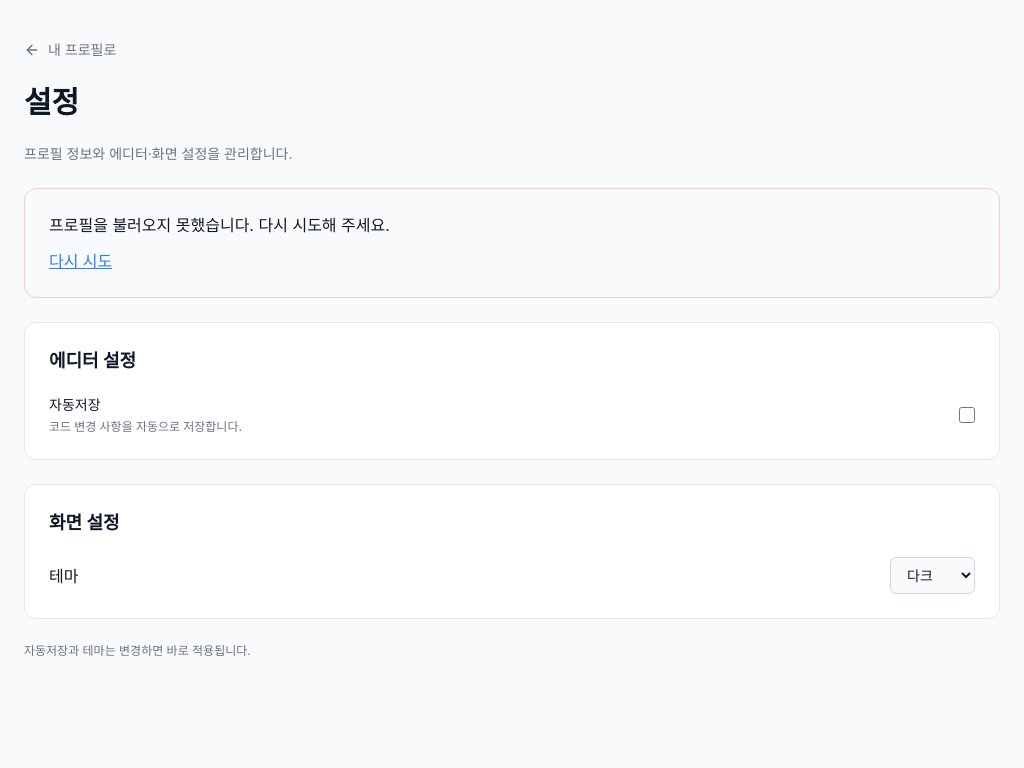
Test case: settings profile editor › offers retry on transient read failure without removing the token
Expected: the message "프로필을 불러오지 못했습니다. 다시 시도해 주세요. 다시 시도" is shown, x1=24 y1=188 x2=1000 y2=298
Click the button "다시 시도" at (81, 261), box x1=49 y1=249 x2=112 y2=273
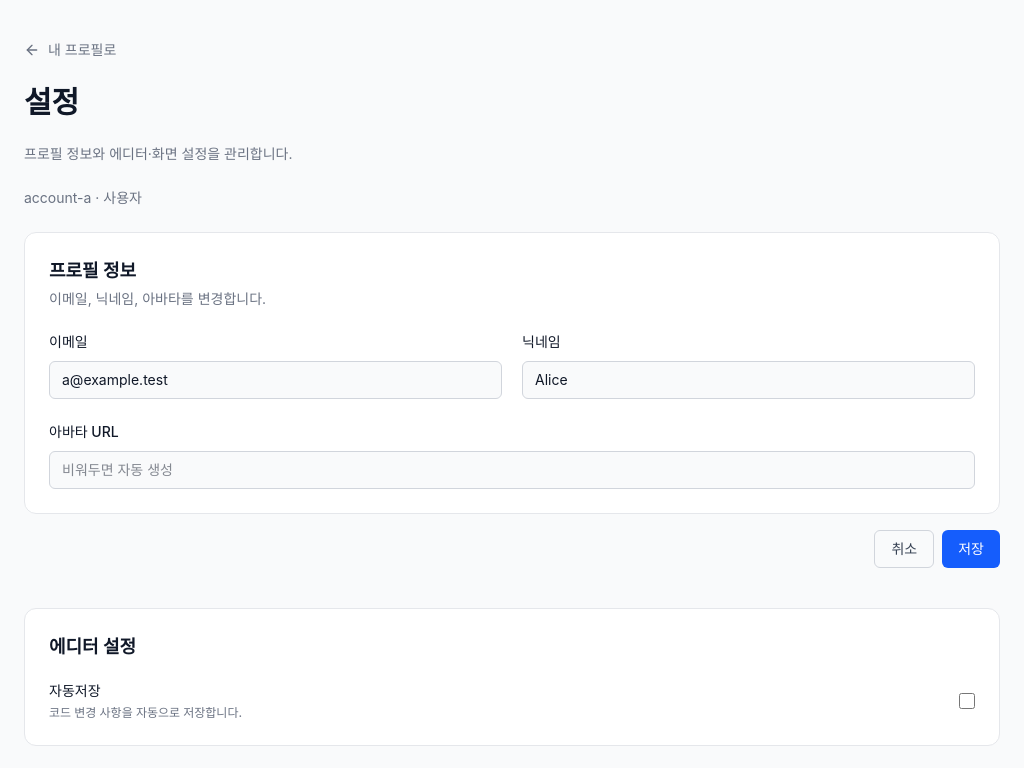
Expected: the field labelled "닉네임" holds "Alice", x1=522 y1=361 x2=975 y2=399
